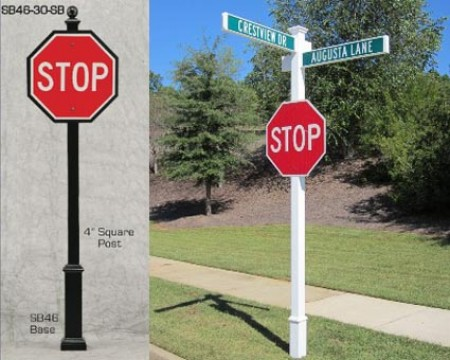stop: (25, 31, 121, 123), (266, 99, 328, 177), (264, 109, 322, 179)
